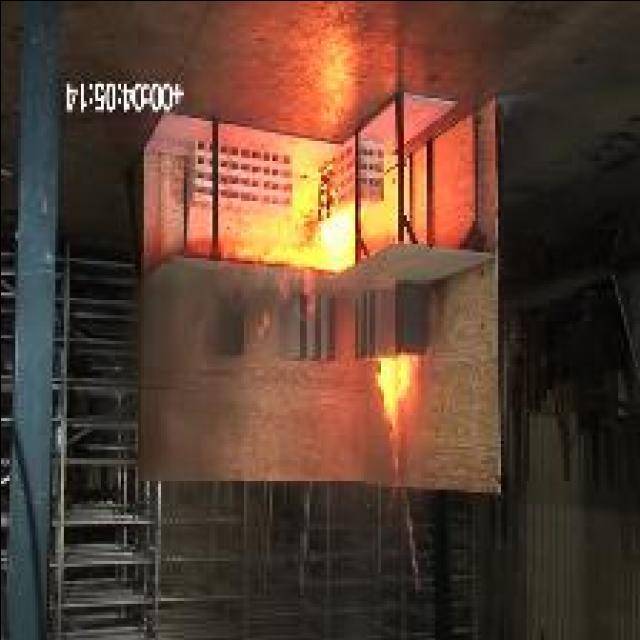Fire: (228, 170, 352, 336), (376, 359, 408, 507)
